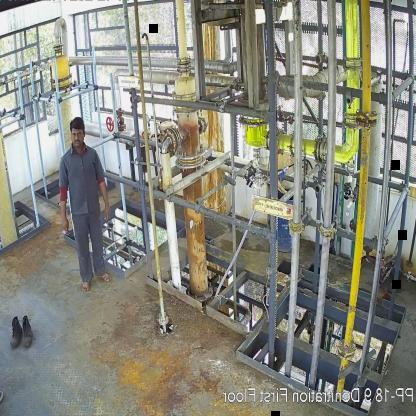no_shoes: (81, 280, 93, 295), (96, 272, 114, 282)
shoes: (18, 314, 34, 349), (8, 316, 22, 348)
